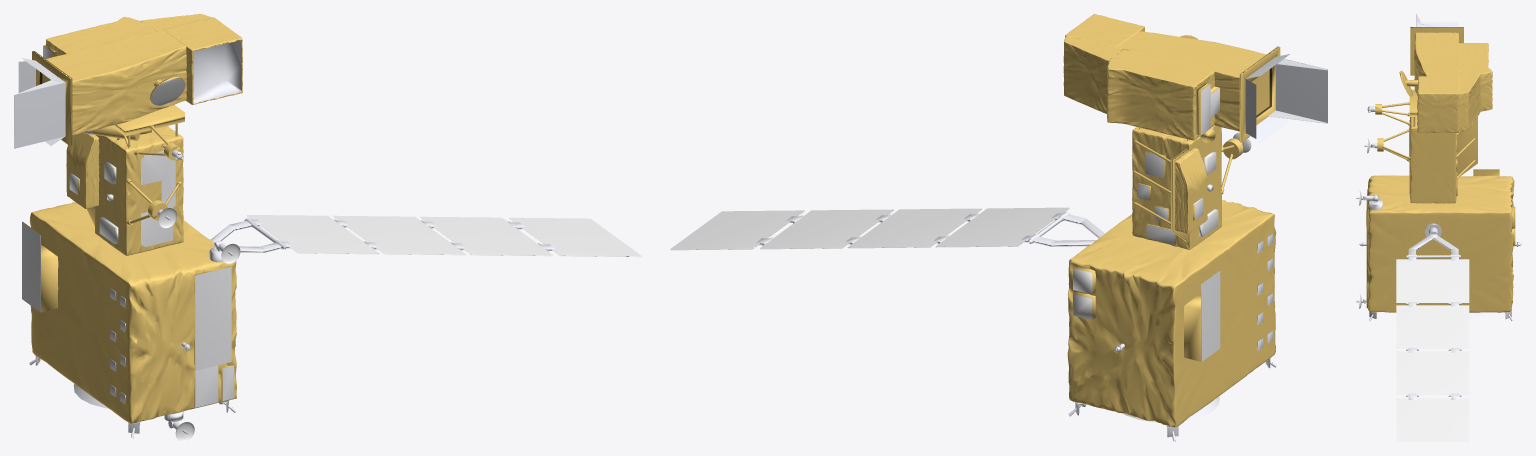
File: Landsat 7.glb
The picture shows the model from 3 angles, left to right: view 1: azimuth 30°, elevation 25°; view 2: azimuth 150°, elevation 25°; view 3: azimuth 270°, elevation 25°; orthographic projection. The views are drawn at different scales.
Visible parts, largest first — view 1: body2, external_hardware, body, Solar_Panel; view 2: body2, external_hardware, body, Solar_Panel; view 3: body2, Solar_Panel, body, external_hardware.
Part boxes in pixels (left/top/right/bottom): body2: left=29, top=126, right=236, bottom=423; external_hardware: left=14, top=44, right=240, bottom=441; body: left=46, top=14, right=242, bottom=136; Solar_Panel: left=210, top=215, right=641, bottom=257; body2: left=1067, top=125, right=1276, bottom=427; external_hardware: left=1068, top=35, right=1327, bottom=441; body: left=1063, top=14, right=1266, bottom=140; Solar_Panel: left=670, top=207, right=1104, bottom=250; body2: left=1366, top=117, right=1514, bottom=312; Solar_Panel: left=1396, top=223, right=1469, bottom=441; body: left=1409, top=32, right=1492, bottom=132; external_hardware: left=1356, top=14, right=1521, bottom=321.
Bounding box in the file's own units: 1.26 × 0.6957 × 0.4112.
